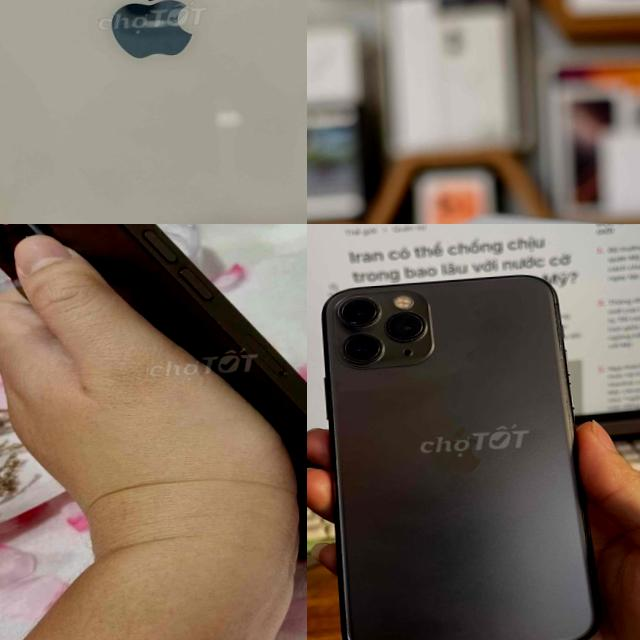gen_11: (307, 260, 614, 640)
gen_12_13: (0, 0, 307, 224)
gen_14: (0, 224, 307, 599)
scratch: (334, 289, 432, 363), (550, 284, 576, 423)
